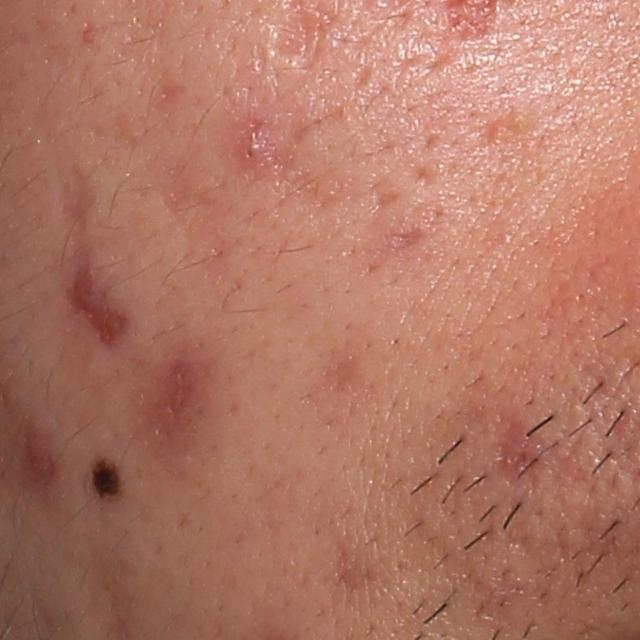atrophic_scar: (161, 149, 246, 290), (56, 249, 143, 377), (145, 349, 216, 481), (54, 150, 119, 239), (492, 401, 550, 490), (367, 225, 429, 270), (269, 6, 317, 60)
nevus: (90, 457, 126, 503)
papule: (230, 124, 279, 176)
